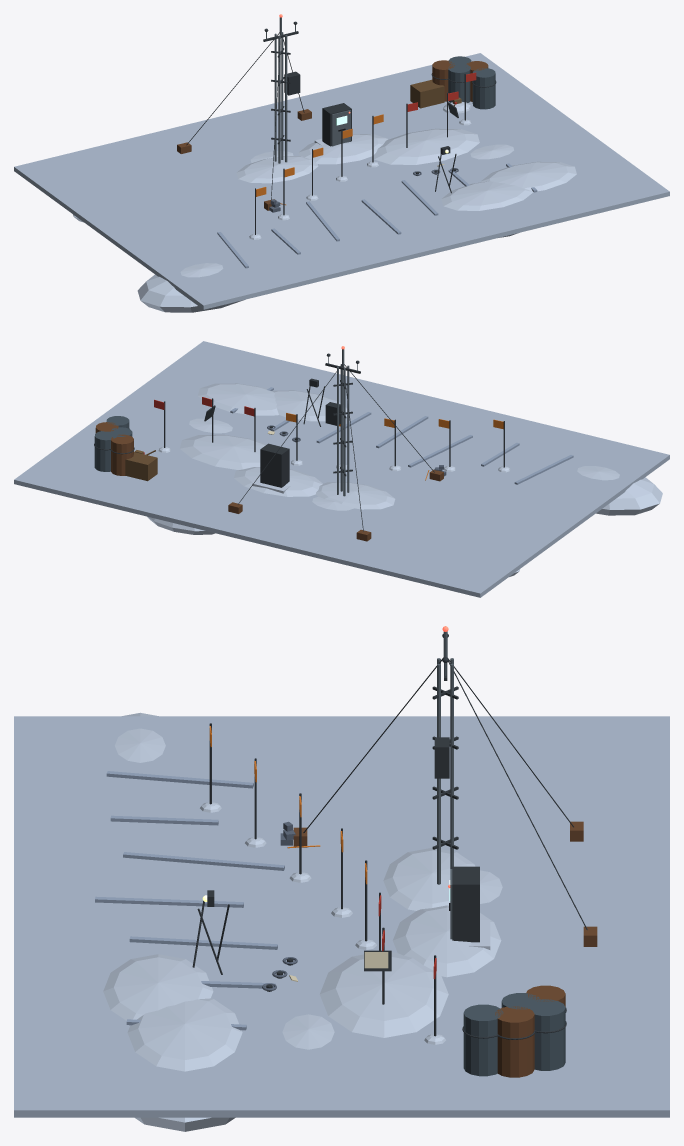
File: mast.glb
3 views of the same model, one above another, from view 1: azimuth 30°, elevation 25°; view 2: azimuth 150°, elevation 25°; view 3: azimuth 270°, elevation 25° (orthographic). The views are drawn at different scales.
Parts seen in each view (by area): view 1: SnowBase, Drift2, Drift12, Drift4, Drift6, Drift1, Drift11, Drum4, DumpCrate, Drum0, LoggerCab, Drum3 (+2 smaller); view 2: SnowBase, Drift2, Drift12, Drift6, Drift11, Drift4, Drift1, LoggerCab, Drum3, DumpCrate, Drum2, Drift3 (+1 smaller); view 3: SnowBase, Drift2, Drift6, Drift4, Drift1, Drift11, Drum1, Drum4, Drum2, LoggerCab, Drift12, Drift3 (+5 smaller).
Part boxes in pixels (x1,y1,x2,y2): SnowBase: (14, 53, 669, 309); Drift2: (373, 128, 479, 164); Drift12: (137, 263, 243, 312); Drift4: (441, 181, 533, 237); Drift6: (480, 161, 576, 191); Drift1: (298, 134, 387, 164); Drift11: (236, 156, 318, 183); Drum4: (472, 68, 495, 109); DumpCrate: (410, 79, 444, 108); Drum0: (448, 63, 470, 102); LoggerCab: (322, 103, 351, 146); Drum3: (432, 60, 454, 101); SnowBase: (14, 341, 669, 597); Drift2: (179, 434, 266, 469); Drift12: (577, 466, 662, 515); Drift6: (198, 383, 278, 415); Drift11: (315, 482, 395, 509); Drift4: (272, 390, 347, 421); Drift1: (234, 467, 322, 496); LoggerCab: (260, 443, 289, 487); Drum3: (111, 434, 133, 475); DumpCrate: (125, 452, 157, 481); Drum2: (94, 431, 117, 471); Drift3: (189, 418, 232, 433); SnowBase: (14, 716, 669, 1117); Drift2: (319, 952, 448, 1037); Drift6: (127, 998, 242, 1131); Drift4: (103, 954, 213, 1020); Drift1: (392, 905, 501, 977); Drift11: (383, 847, 475, 910); Drum1: (495, 1006, 534, 1077); Drum4: (463, 1004, 503, 1076); Drum2: (526, 999, 565, 1070); LoggerCab: (452, 866, 479, 942); Drift12: (115, 712, 165, 762); Drift3: (282, 1014, 334, 1049).
Size of the model in its own units: 14.27 by 5.17 by 9.5.
